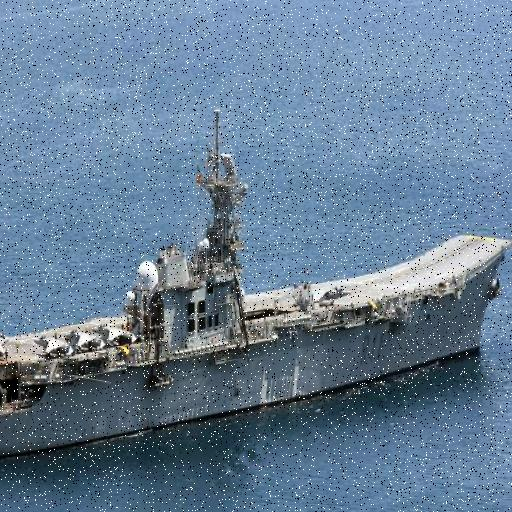Portanaves: (1, 99, 512, 470)
